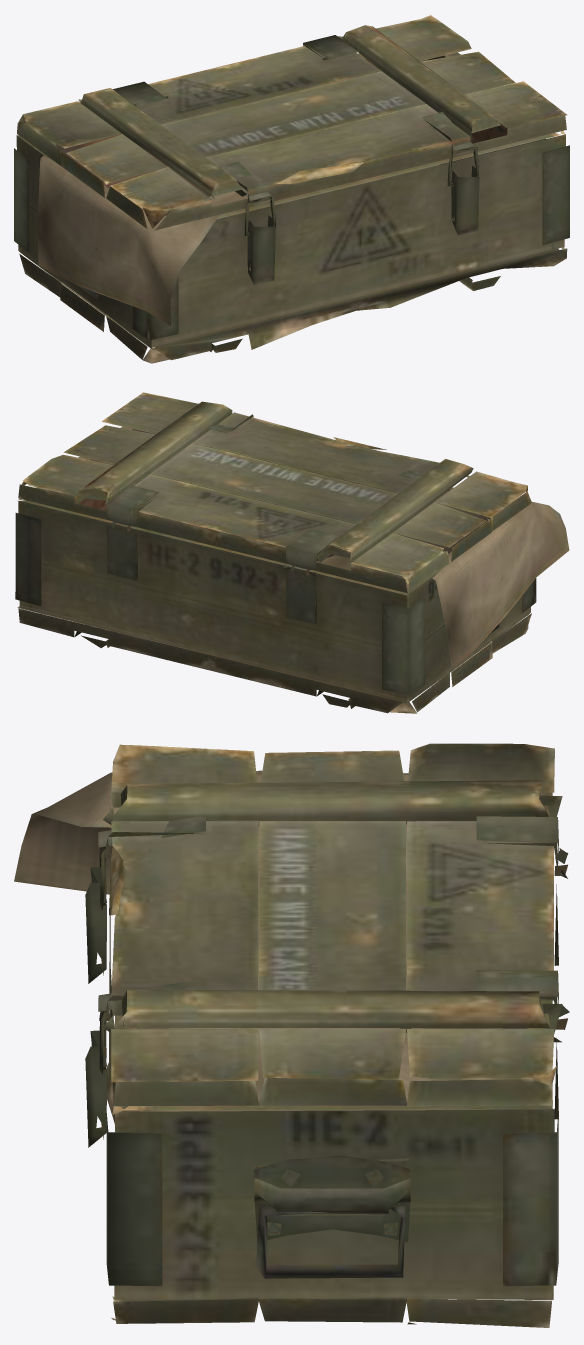
Rendered from military_crate.glb.
The picture shows the model from 3 angles, top to bottom: view 1: azimuth 30°, elevation 25°; view 2: azimuth 150°, elevation 25°; view 3: azimuth 270°, elevation 25°; orthographic projection. The views are drawn at different scales.
Parts seen in each view (by area): view 1: military_crate; view 2: military_crate; view 3: military_crate.
Boxes of the visible parts, x1,y1,x2,y2 form: military_crate: (14,15,569,363); military_crate: (15,392,569,713); military_crate: (14,743,569,1327).
Bounding box in the file's own units: 0.8139 × 0.3015 × 0.5387.
Materials: 1 (1 with a texture image).
